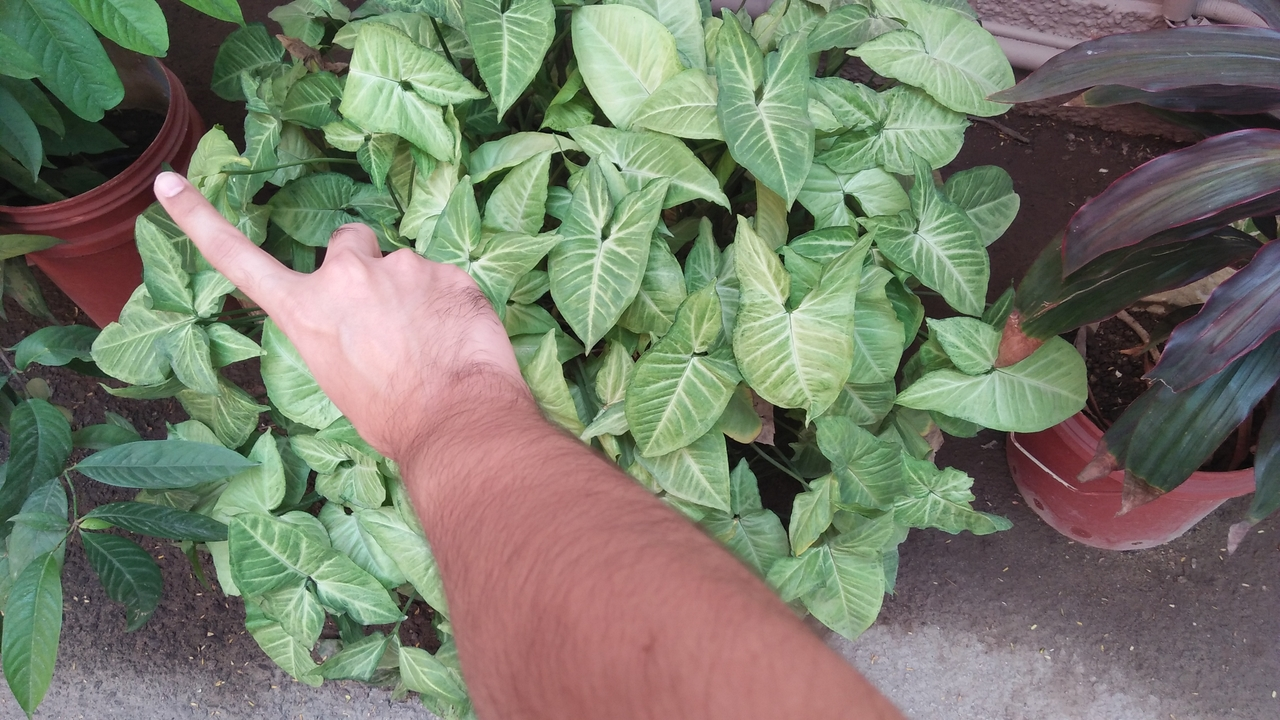fingertip: (136, 156, 208, 216)
